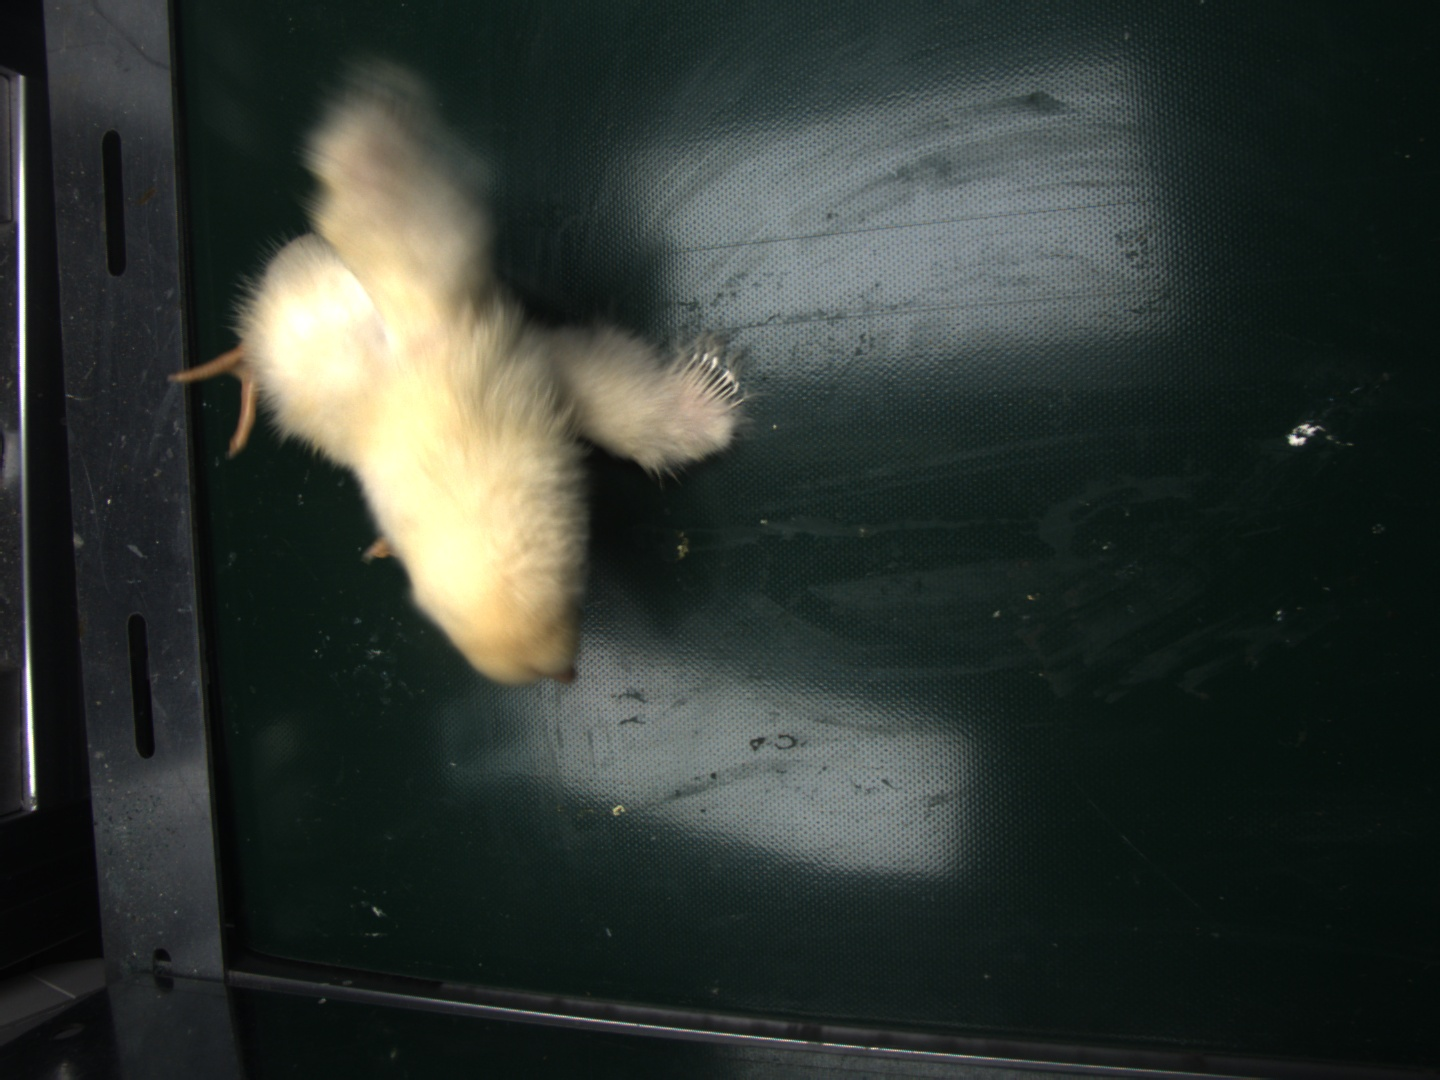male: (677, 356, 742, 410)
